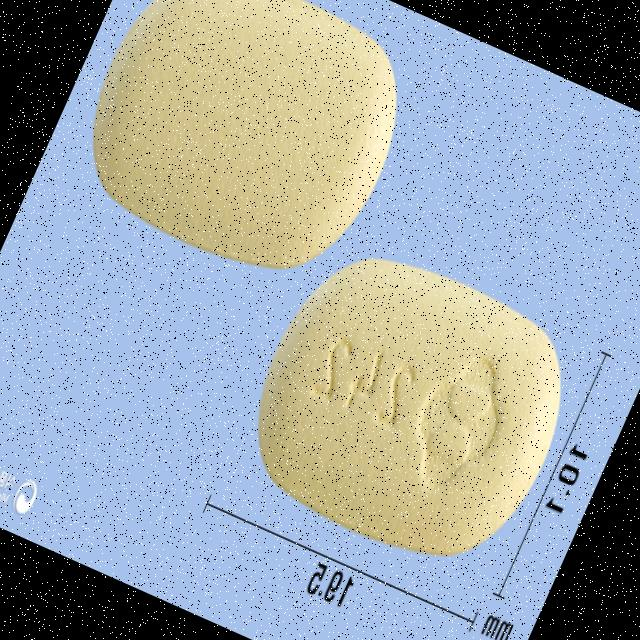Isentress: (220, 224, 598, 592), (55, 0, 433, 304)
